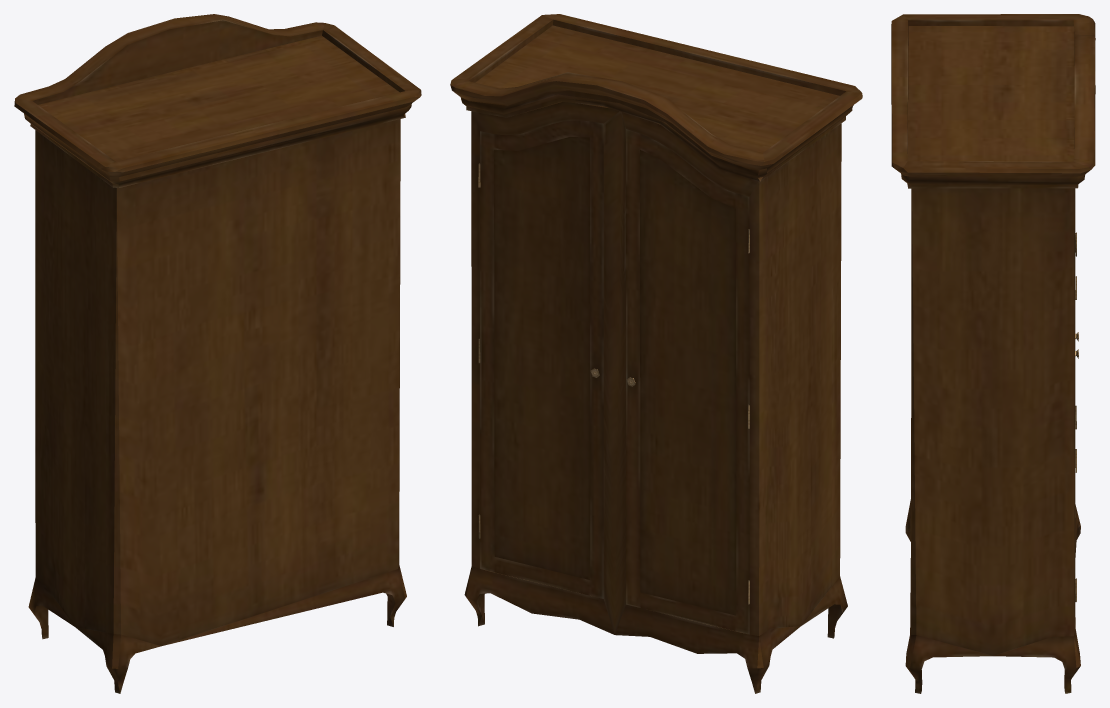
Rendered from wardrobe-double.lod1.glb.
3 views of the same model, side by side, from view 1: azimuth 30°, elevation 25°; view 2: azimuth 150°, elevation 25°; view 3: azimuth 270°, elevation 25° (orthographic).
Parts seen in each view (by area): view 1: wardrobe-double; view 2: wardrobe-double; view 3: wardrobe-double.
Part boxes in pixels (x1,y1,x2,y2): wardrobe-double: (14, 14, 421, 693); wardrobe-double: (450, 14, 862, 693); wardrobe-double: (891, 14, 1095, 693).
Bounding box in the file's own units: 1.18 × 2.03 × 0.6546.
Materials: 1 (1 with a texture image).
